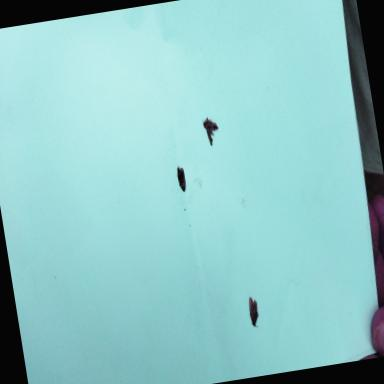pbw: (201, 114, 220, 146), (248, 296, 260, 327), (175, 164, 187, 192)
